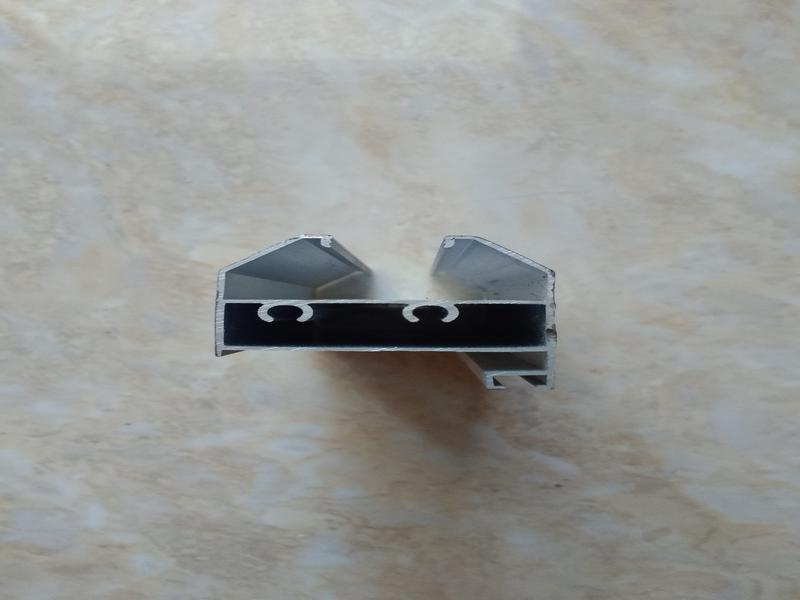Aluminium_3: (185, 180, 596, 424)
